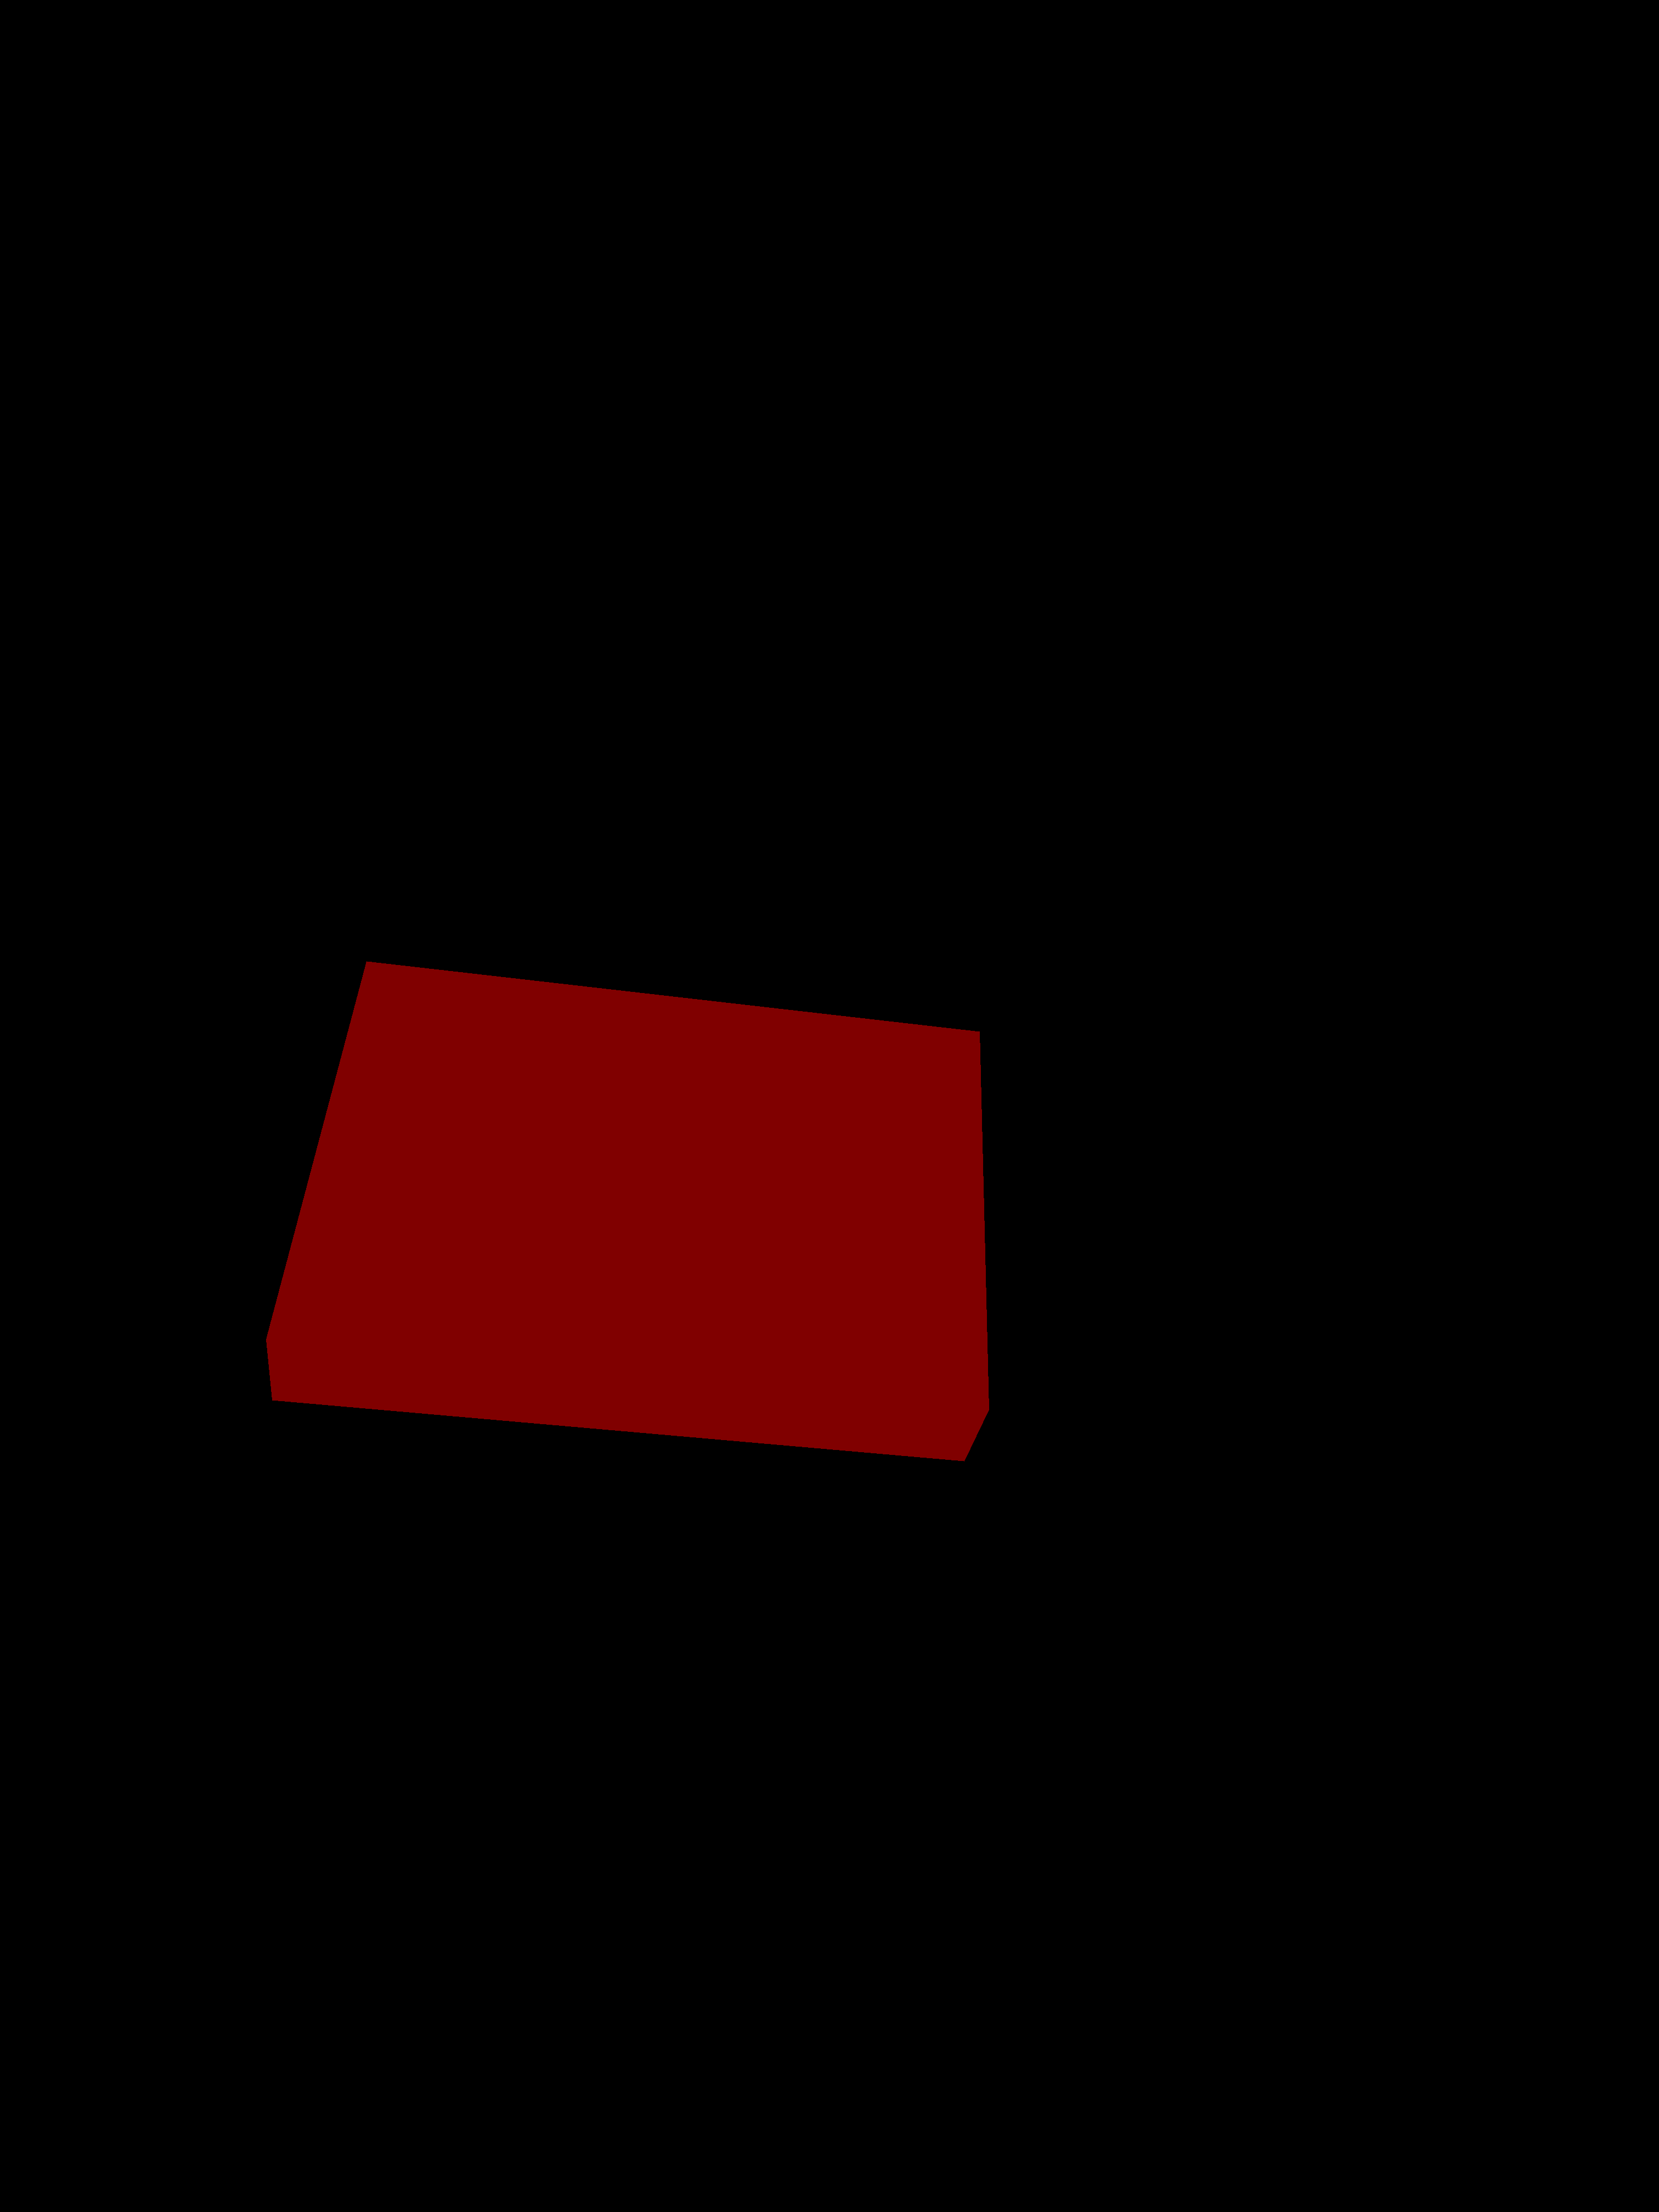sign: (267, 961, 988, 1461)
